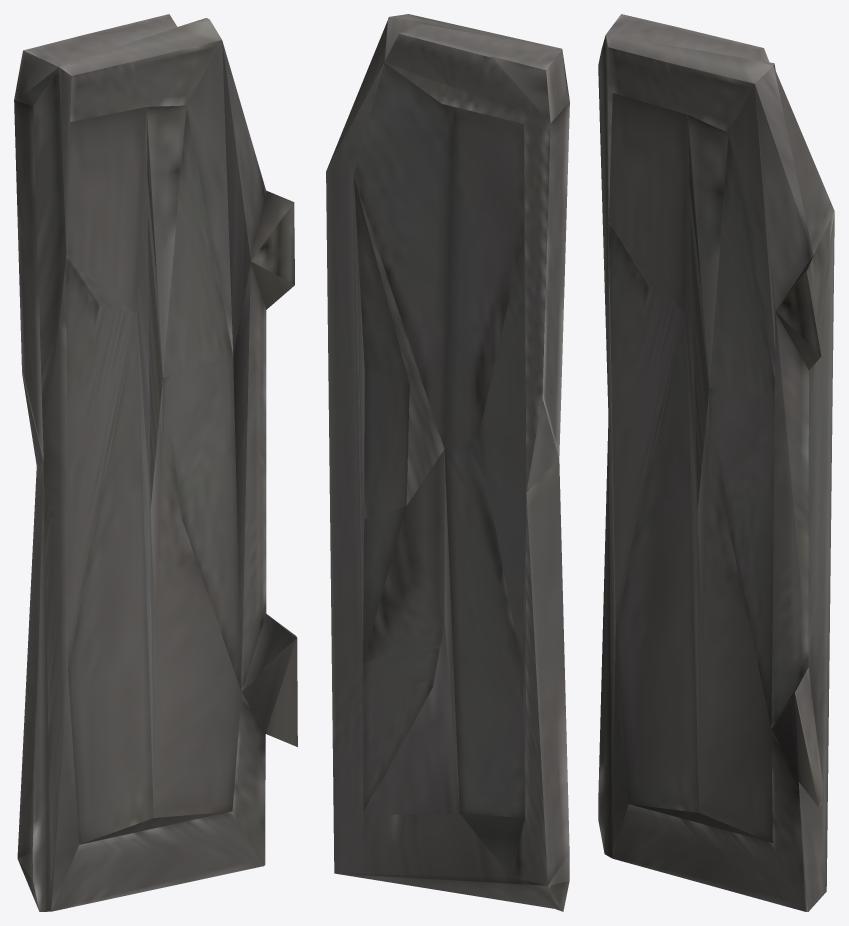
Rendered from imperial_city_wall_tower__entrance_door_right_lod2.glb.
The picture shows the model from 3 angles, left to right: view 1: azimuth 30°, elevation 25°; view 2: azimuth 150°, elevation 25°; view 3: azimuth 330°, elevation 25°; orthographic projection. The views are drawn at different scales.
Parts seen in each view (by area): view 1: mesh_node; view 2: mesh_node; view 3: mesh_node.
Part boxes in pixels (x1,y1,x2,y2): mesh_node: (14, 14, 297, 911); mesh_node: (326, 14, 569, 911); mesh_node: (598, 14, 834, 911).
Size of the model in its own units: 0.6706 by 2.22 by 0.2408.
1 material, 1 textured.
